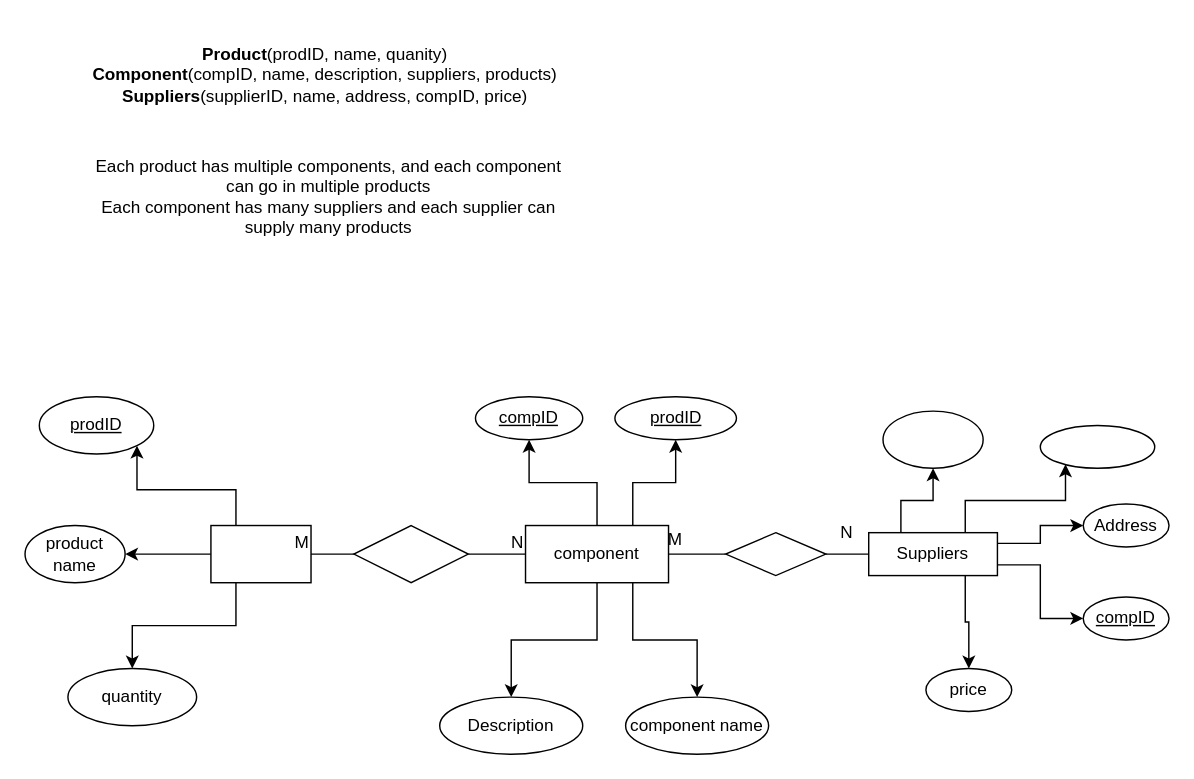
This 1194x779 diagram has some shape labels left out. Each missing label, with the centre of its shape:
"has a" goes at point (410, 553).
"make" goes at point (775, 553).
"product" goes at point (260, 553).
"supplier name" goes at point (1097, 446).
"supplierID" goes at point (932, 439).
